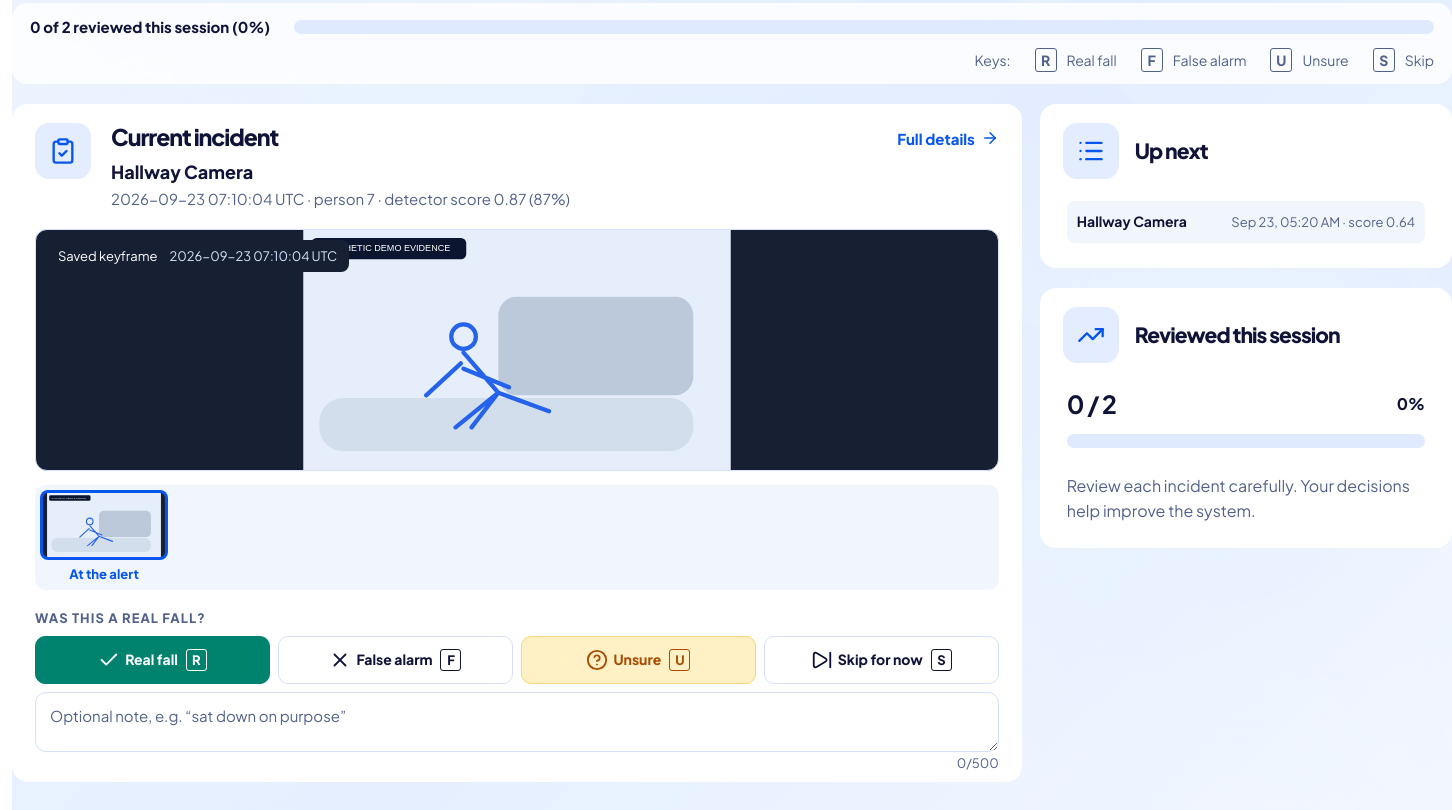
Review queue › keeps the current incident and note when saving fails
(page scrolled)
Check: the button "Real fall R" is enabled, box [35,636,270,684]
Step 1. Type "Keep this note" into the text box named "Note (optional)" → (517, 722), box [35,692,999,752]
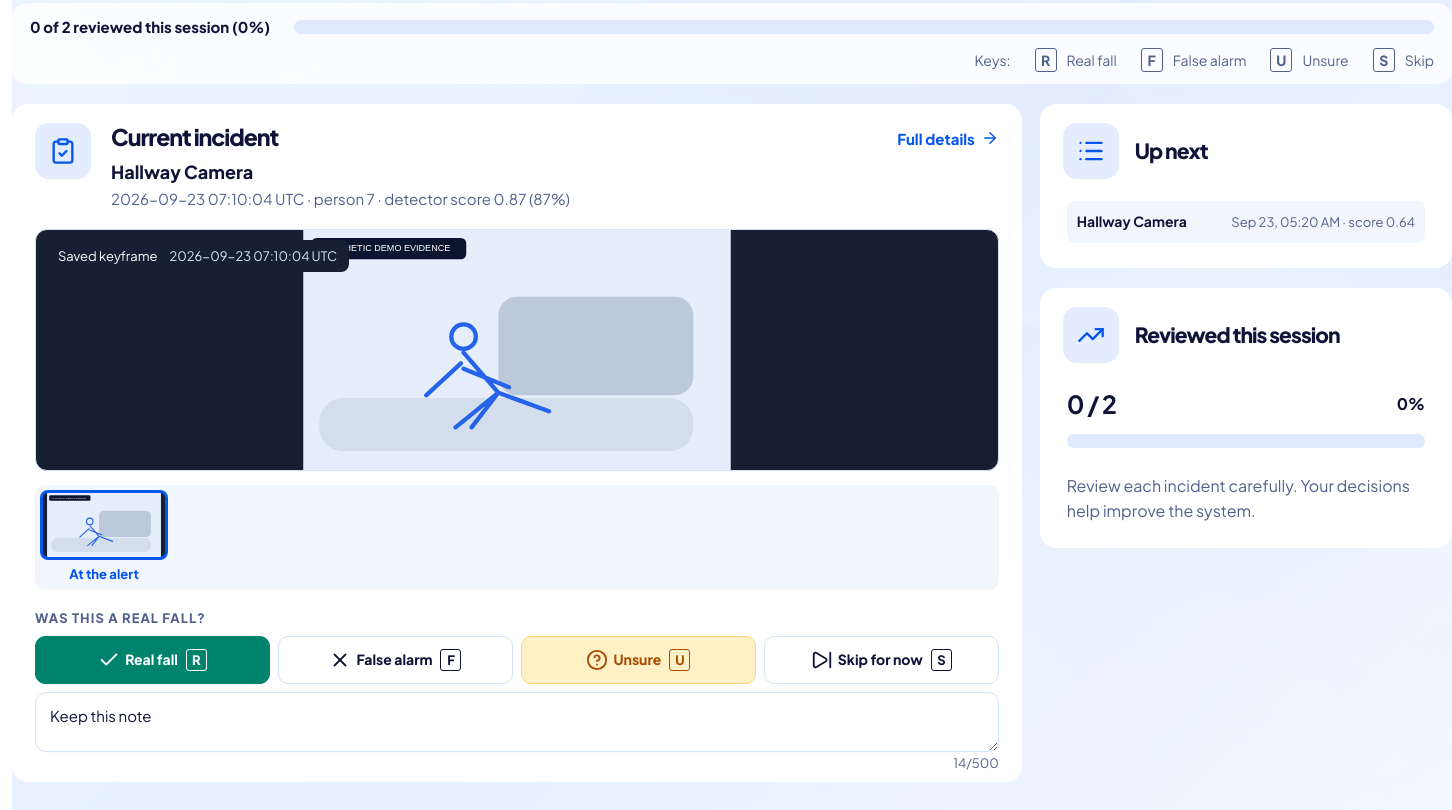
Step 2. Click the button "Real fall R" → (152, 660), box [35,636,270,684]
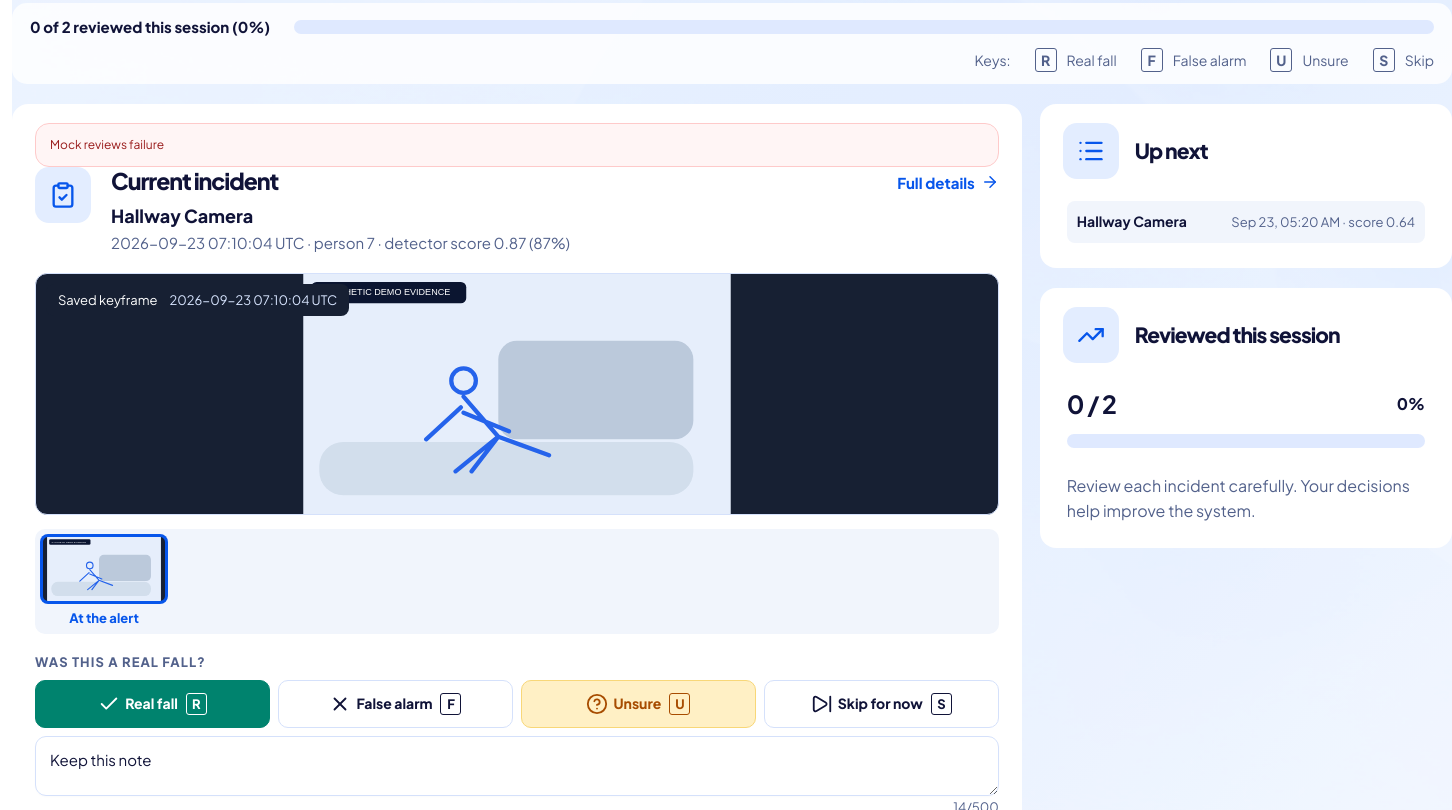
Check: the text "0 of 2 reviewed this session (0%)" is shown, box [30,15,270,38]
Check: the message "Mock reviews failure" is shown, box [35,123,999,167]
